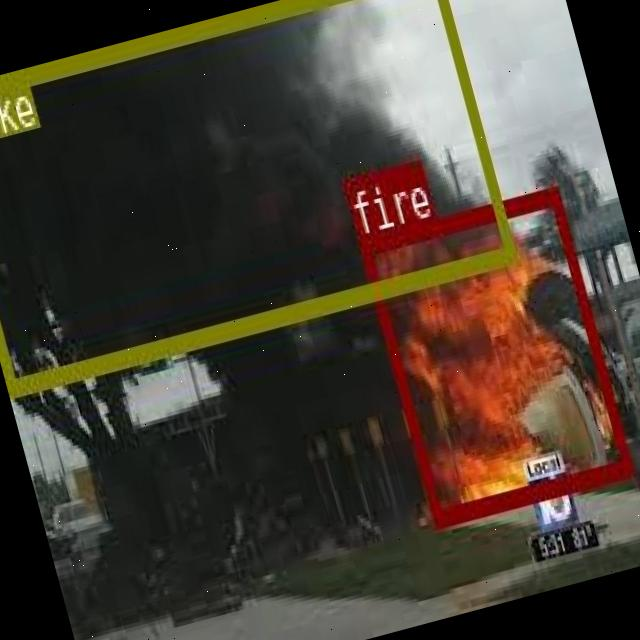fire: (357, 182, 630, 524)
smoke: (0, 0, 515, 392)
